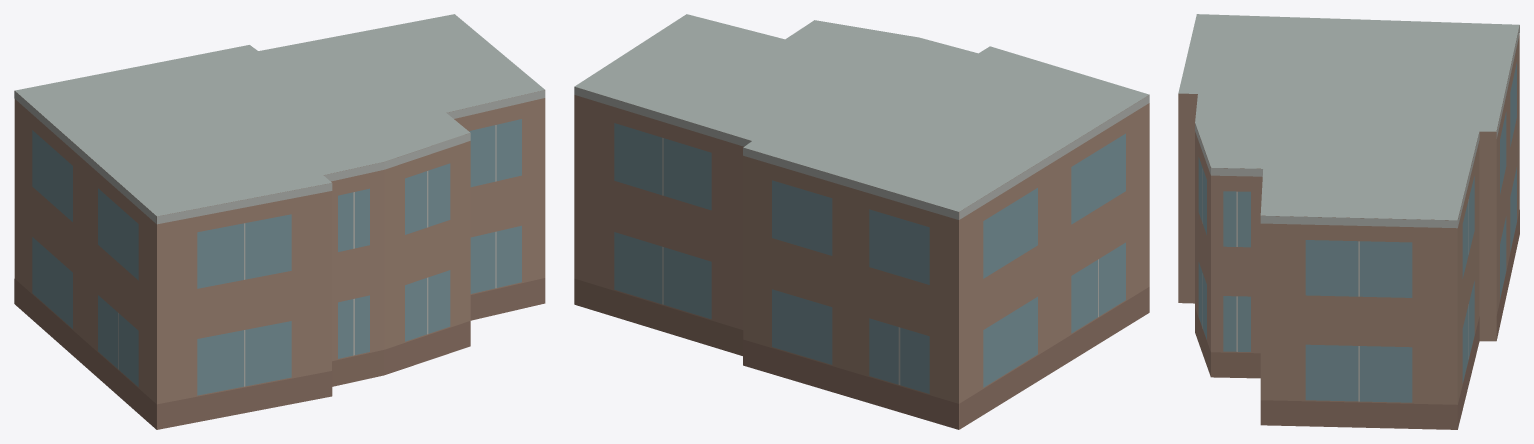
File: survey-upis-33014126.glb
The picture shows the model from 3 angles, left to right: view 1: azimuth 30°, elevation 25°; view 2: azimuth 150°, elevation 25°; view 3: azimuth 270°, elevation 25°; orthographic projection. The views are drawn at different scales.
Parts seen in each view (by area): view 1: survey-upis-33014126.tmp; view 2: survey-upis-33014126.tmp; view 3: survey-upis-33014126.tmp.
Boxes of the visible parts, bbox=[...] form: survey-upis-33014126.tmp: bbox=[14, 14, 545, 429]; survey-upis-33014126.tmp: bbox=[574, 14, 1149, 429]; survey-upis-33014126.tmp: bbox=[1178, 14, 1519, 429].
Bounding box in the file's own units: 13.74 × 6.5 × 9.61.
